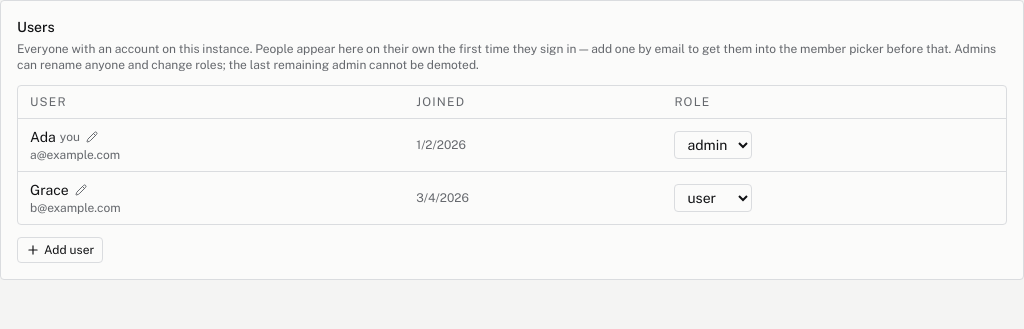
it: changing a role › reports an unexpected failure
This screenshot has width=1024, height=329.
Expected: the text "Grace" is shown, [30, 180, 69, 200]
Select "admin" in the dropdown named "Role for b@example.com" at (713, 198), box [674, 184, 752, 212]
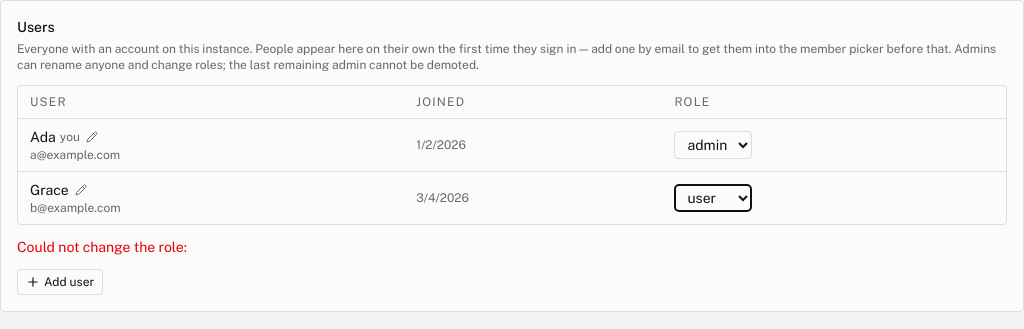
Now the message shows "Could not change the role", box [17, 239, 187, 255]
